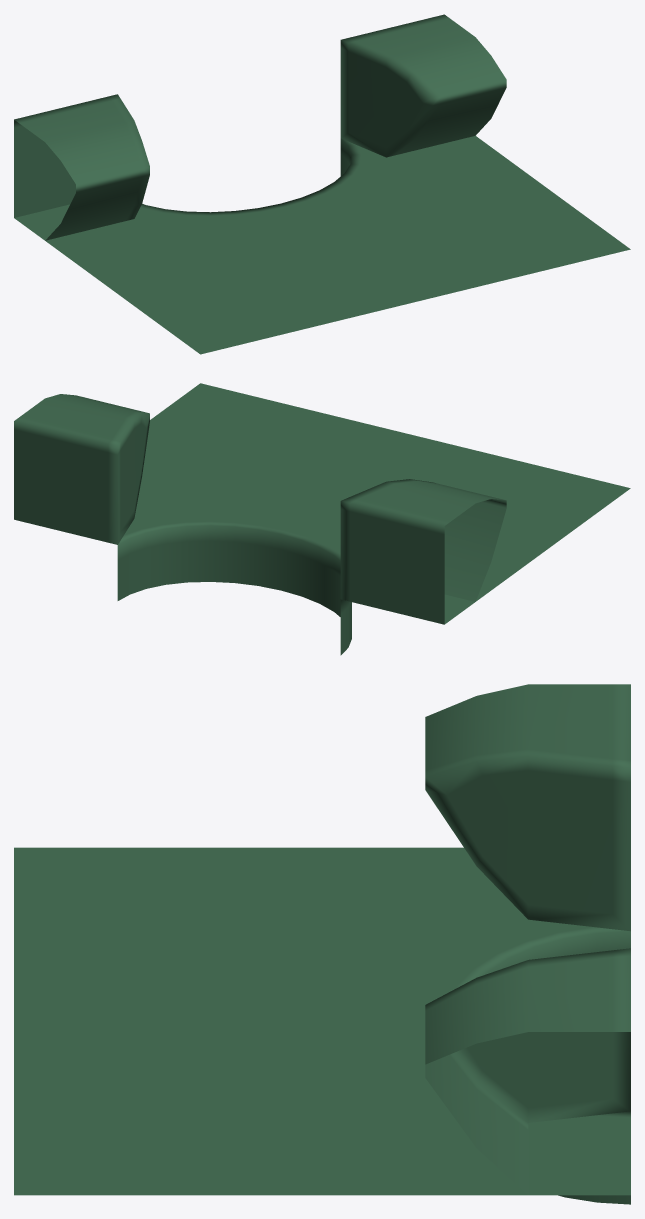
File: table_pocket_straight_a.fbx
3 renders of one model, top to bottom at view 1: azimuth 30°, elevation 25°; view 2: azimuth 150°, elevation 25°; view 3: azimuth 270°, elevation 25°, orthographic. The views are drawn at different scales.
Parts seen in each view (by area): view 1: lod0; view 2: lod0; view 3: lod0.
Boxes of the visible parts, x1,y1,x2,y2 form: lod0: (14, 14, 630, 354); lod0: (14, 383, 630, 655); lod0: (14, 684, 630, 1204).
Size of the model in its own units: 8 by 2.75 by 6.
